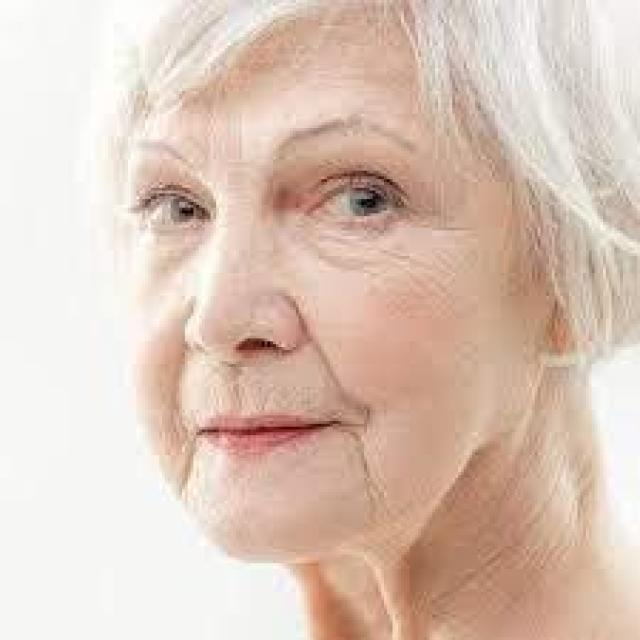Wrinkles: (284, 294, 382, 521), (173, 347, 195, 497)
